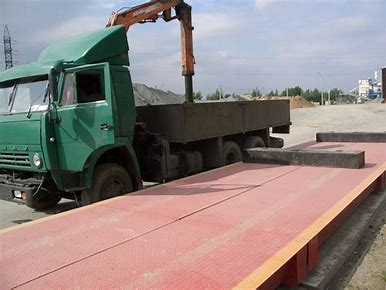Industrial Scale: (6, 126, 380, 290)
